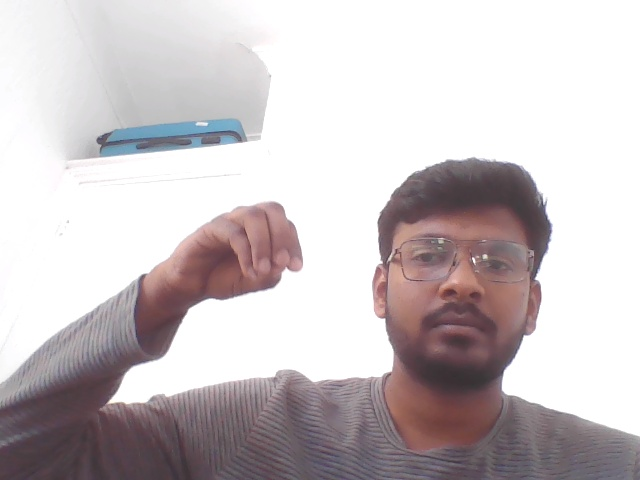Yes: (122, 174, 328, 409)
